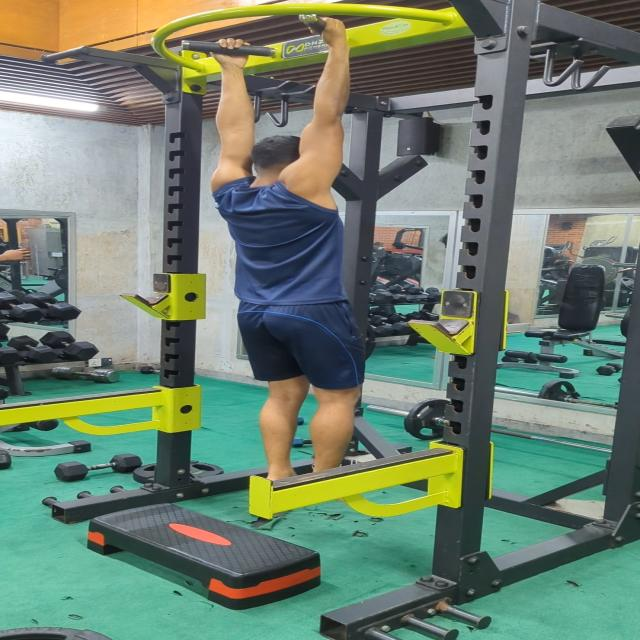Normal_PullUps: (202, 12, 374, 488)
